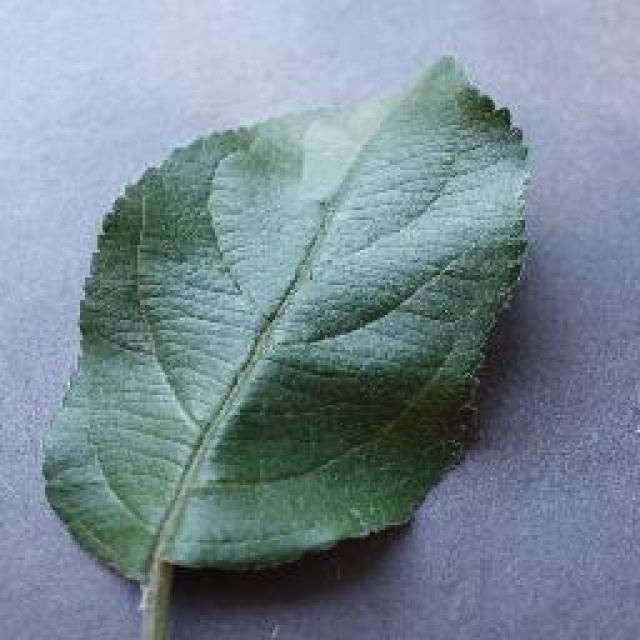apple healthy: (38, 50, 532, 638)
